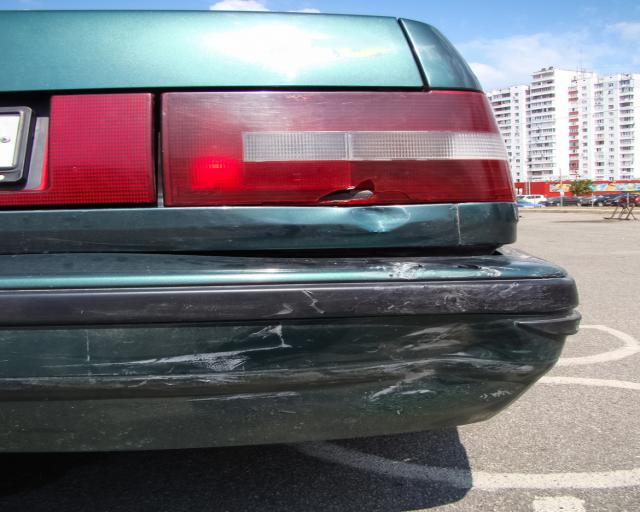dent: (239, 316, 529, 400), (351, 207, 409, 231)
lamp broken: (162, 88, 517, 207)
scratch: (0, 347, 306, 403)
